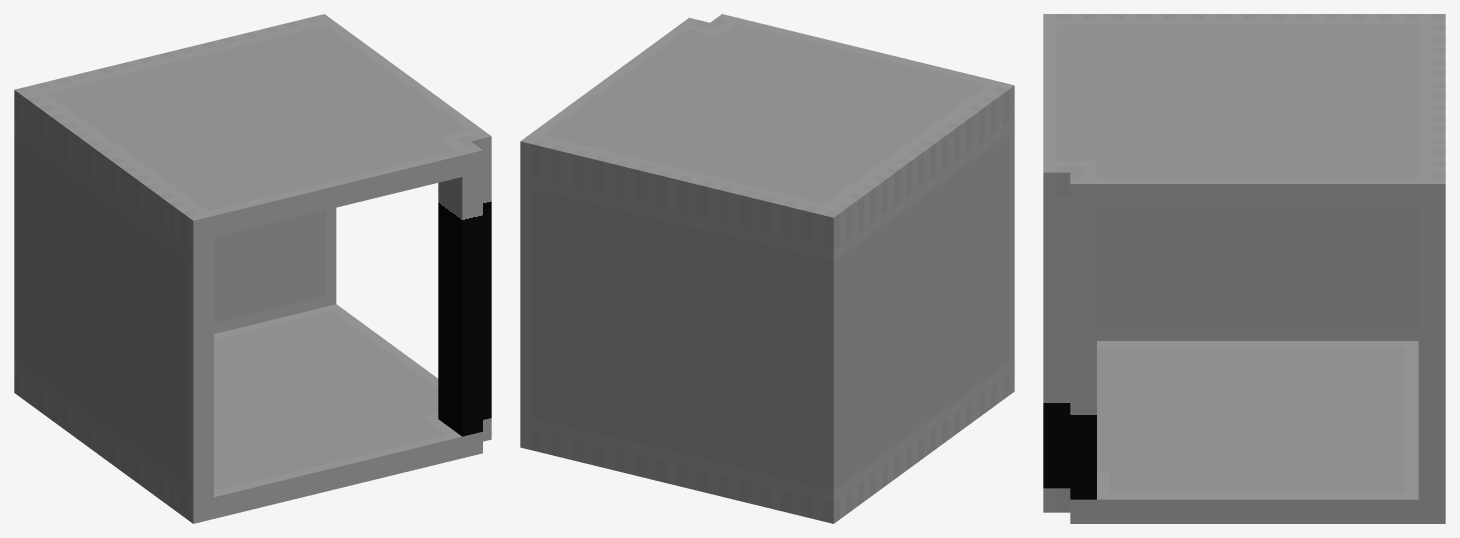
The model's file is vent_L.fbx.
The picture shows the model from 3 angles, left to right: view 1: azimuth 30°, elevation 25°; view 2: azimuth 150°, elevation 25°; view 3: azimuth 270°, elevation 25°; orthographic projection. The views are drawn at different scales.
Visible parts, largest first — view 1: cube_1, cube_2, cube, cube_4, cube_3, cube_6, cube_5, cube_7; view 2: cube_4, cube_1, cube_2, cube, cube_6; view 3: cube_1, cube, cube_2, cube_6, cube_5, cube_4, cube_3, cube_7.
Boxes of the visible parts, box(x1,y1,x2,y2) form: cube_1: box(14, 19, 482, 242); cube_2: box(14, 111, 213, 502); cube: box(14, 309, 482, 523); cube_4: box(214, 208, 336, 333); cube_3: box(438, 172, 482, 436); cube_6: box(304, 14, 491, 159); cube_5: box(316, 304, 491, 441); cube_7: box(483, 158, 491, 419); cube_4: box(520, 163, 812, 496); cube_1: box(541, 14, 1014, 239); cube_2: box(813, 107, 1014, 501); cube: box(541, 370, 1014, 523); cube_6: box(520, 17, 709, 167); cube_1: box(1043, 14, 1445, 196); cube: box(1043, 341, 1418, 512); cube_2: box(1097, 208, 1418, 340); cube_6: box(1070, 172, 1445, 208); cube_5: box(1070, 488, 1445, 523); cube_4: box(1418, 208, 1445, 499); cube_3: box(1043, 197, 1070, 488); cube_7: box(1070, 208, 1096, 499).
Size of the model in its own units: 93.75 by 87.5 by 93.75.
